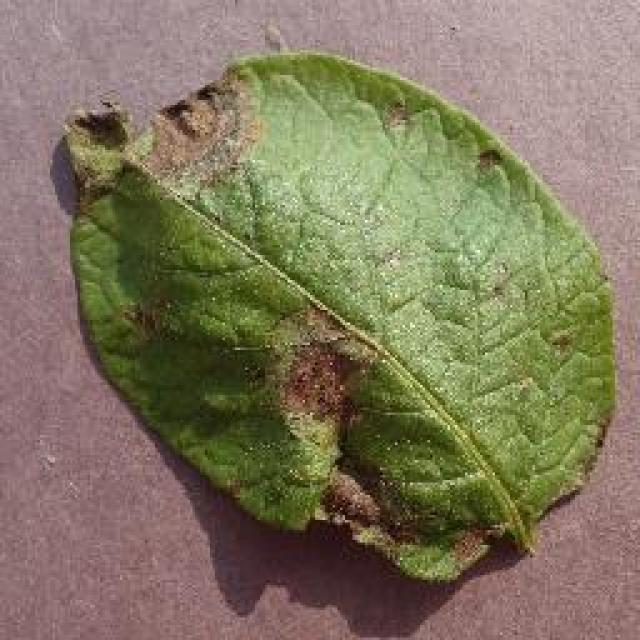Potato: (60, 45, 618, 583)
